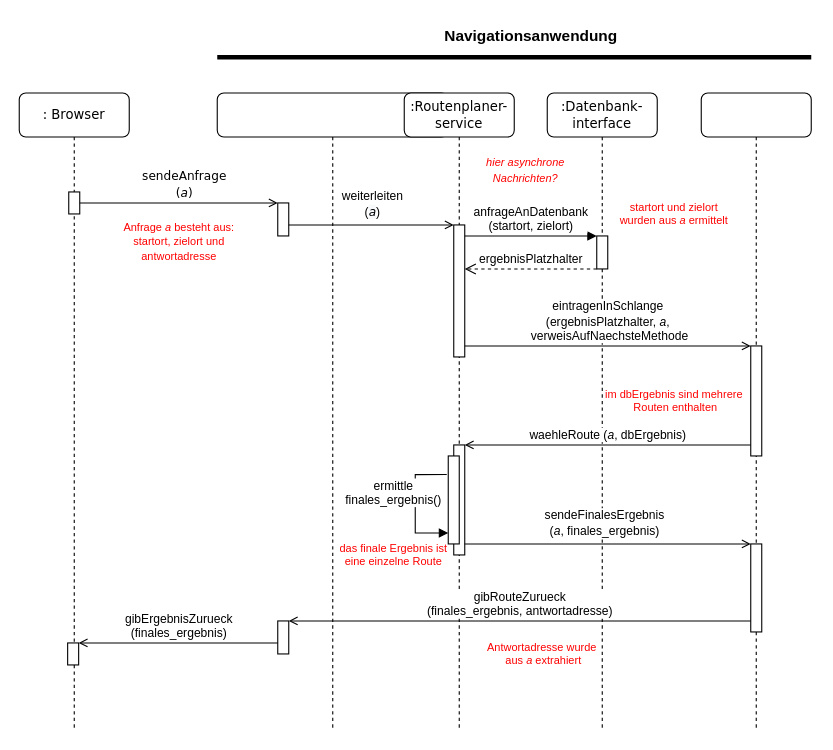
This 833x750 diagram has some shape labels left out. Each missing label, with the box of its shape:
:Anfragebearbeiter ( ab ): (216, 92, 448, 731)
:Ergebnis- warteschlange: (700, 92, 811, 731)
